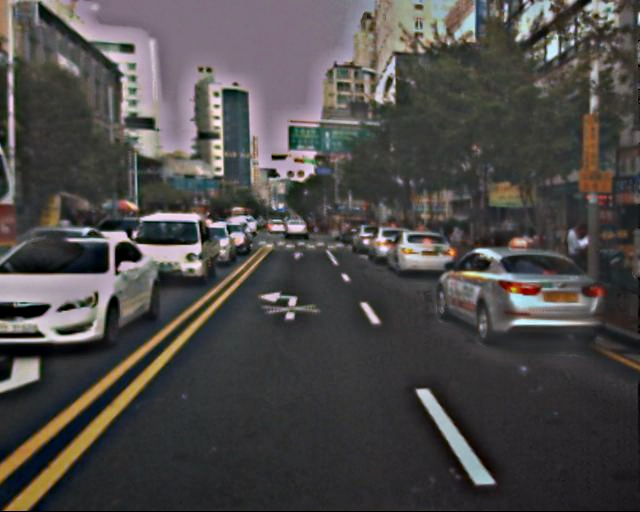person: (560, 219, 592, 297)
